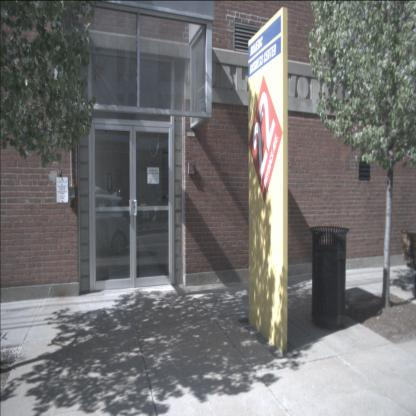vehicle-car: (46, 193, 134, 253)
